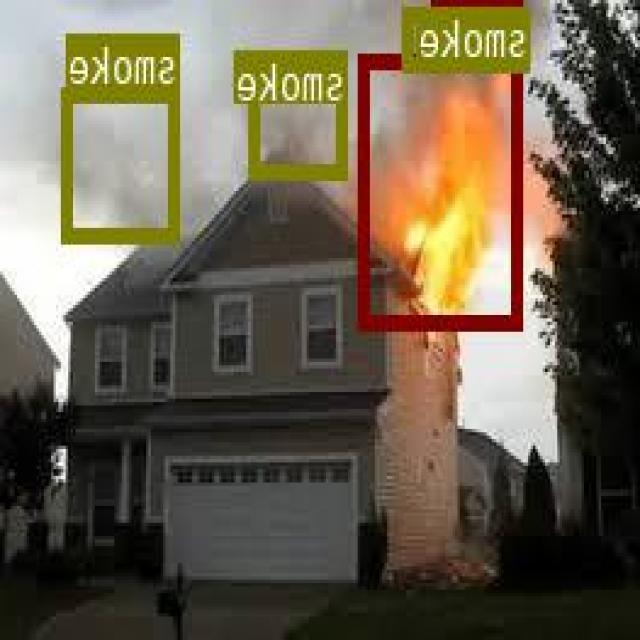fire: (361, 50, 526, 328)
smoke: (65, 84, 180, 240), (251, 49, 350, 174), (406, 6, 531, 68)
